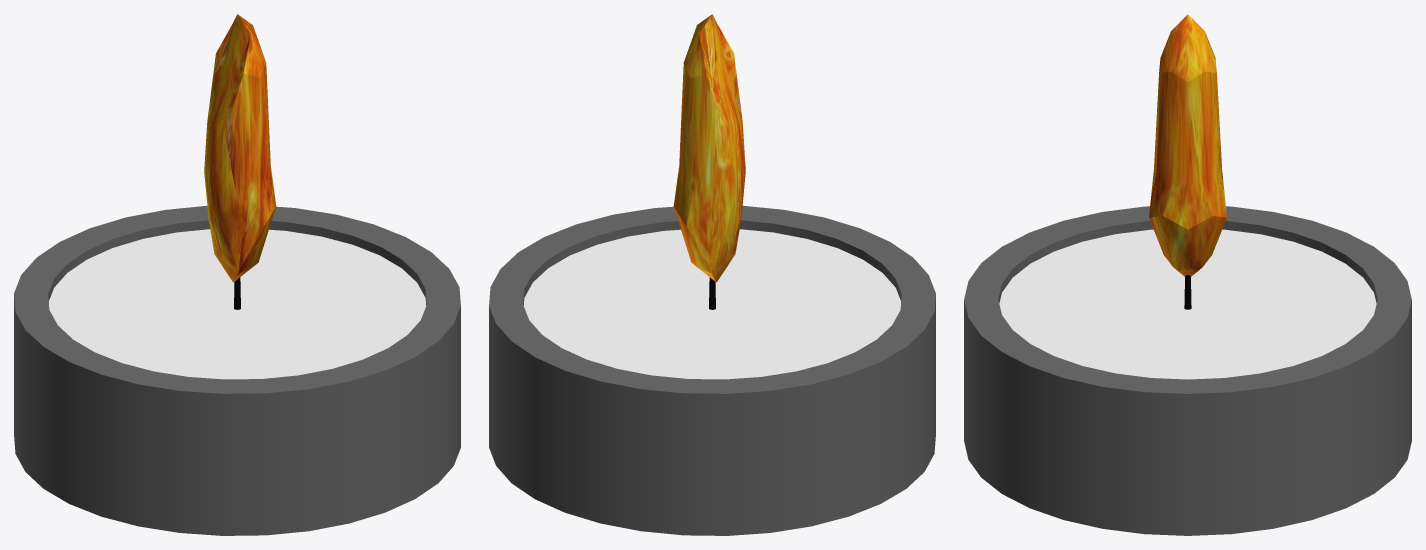
The model's file is candle.gltf.
3 views of the same model, side by side, from view 1: azimuth 30°, elevation 25°; view 2: azimuth 150°, elevation 25°; view 3: azimuth 270°, elevation 25° (orthographic).
Visible parts, largest first — view 1: Cylinder, Icosphere; view 2: Cylinder, Icosphere; view 3: Cylinder, Icosphere.
Part boxes in pixels (<box>): Cylinder: <box>14,205,460,535</box>; Icosphere: <box>204,14,276,282</box>; Cylinder: <box>489,205,935,535</box>; Icosphere: <box>673,14,745,282</box>; Cylinder: <box>964,206,1411,535</box>; Icosphere: <box>1149,14,1226,276</box>.
Bounding box in the file's own units: 0.7123 × 0.7503 × 0.7123.
Materials: 4 (1 with a texture image).
